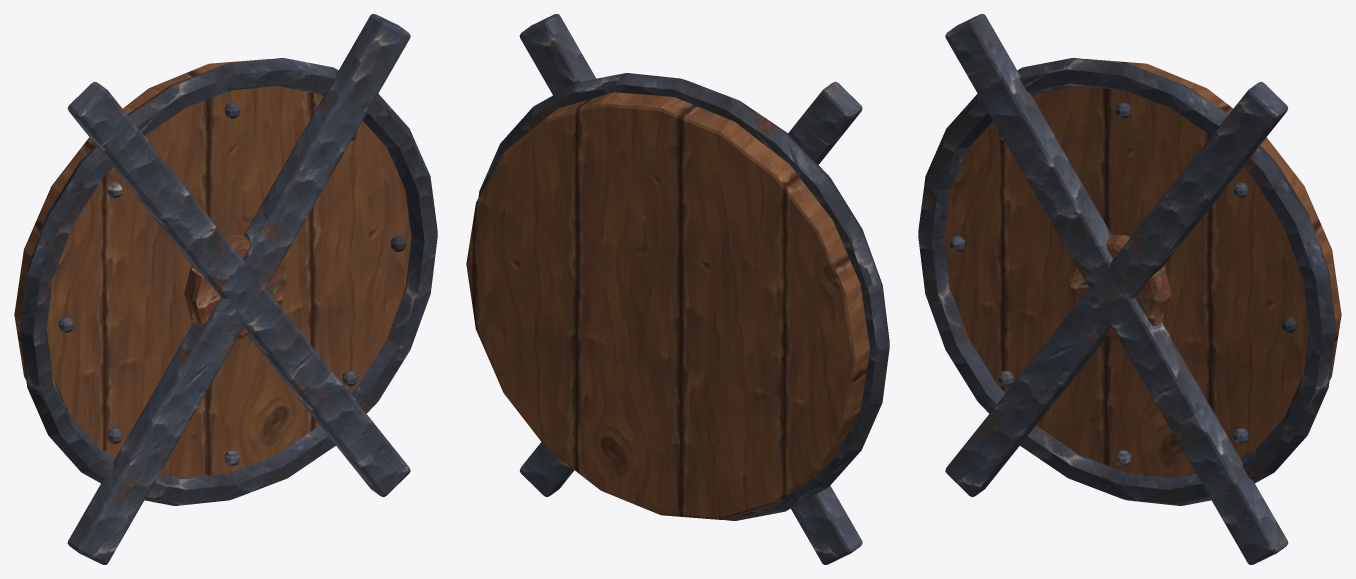
File: wall_shield__plank_root.glb
3 renders of one model, left to right at view 1: azimuth 30°, elevation 25°; view 2: azimuth 150°, elevation 25°; view 3: azimuth 330°, elevation 25°, orthographic.
Visible parts, largest first — view 1: model; view 2: model; view 3: model.
Part boxes in pixels (x1,y1,x2,y2): model: (14, 14, 437, 564); model: (466, 14, 889, 564); model: (918, 14, 1341, 564).
Size of the model in its own units: 0.704 by 0.7668 by 0.11.
Materials: 5 (5 with a texture image).
